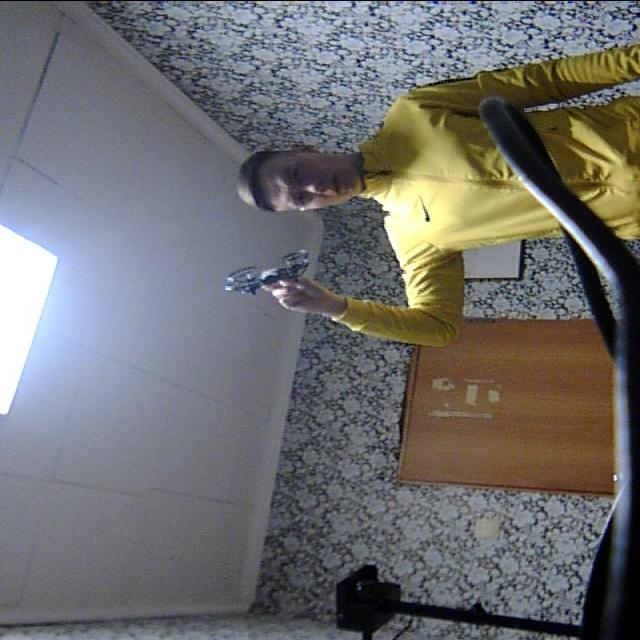drone: (201, 236, 321, 306)
